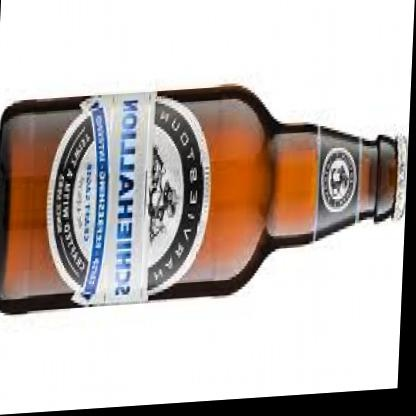trash: (0, 85, 397, 311)
